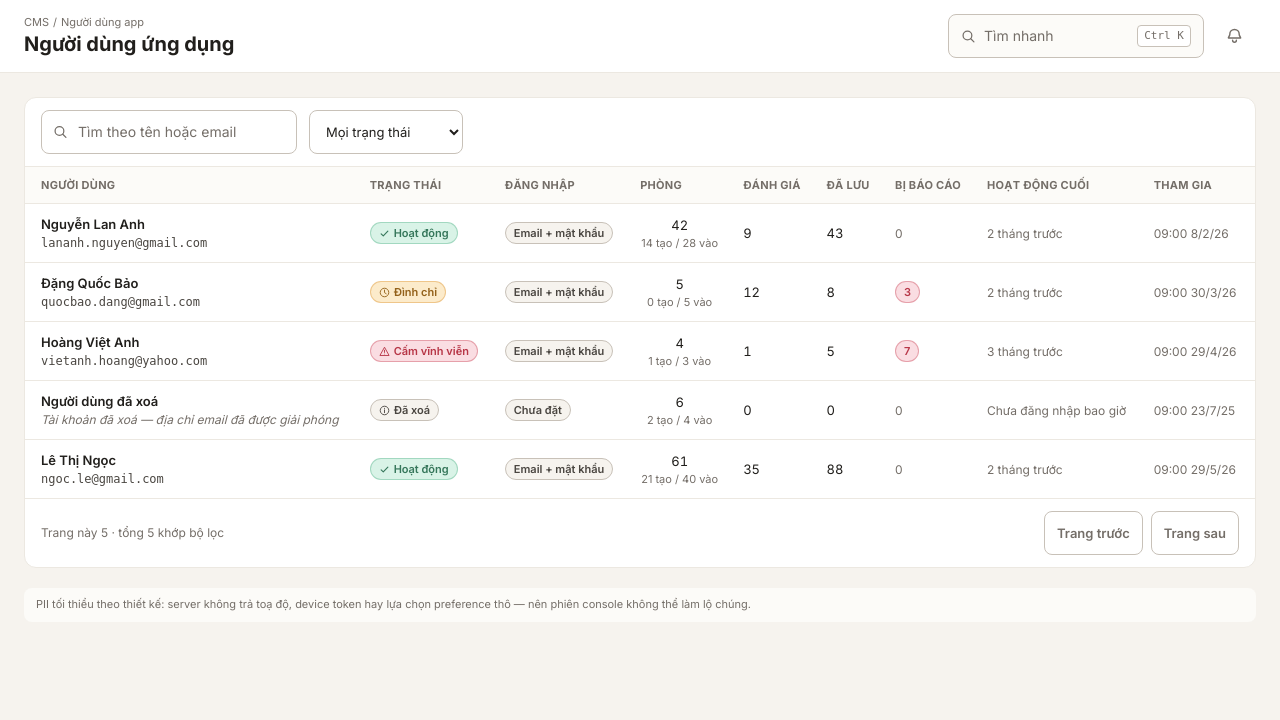
it: secure export — direct user export (GoGo-BE#256) › explains 409 SUBJECT_CANNOT_SIGN_IN — account recovery first
Click the text "Nguyễn Lan Anh".
click(93, 224)  # box [41,216,145,232]
(page scrolled)
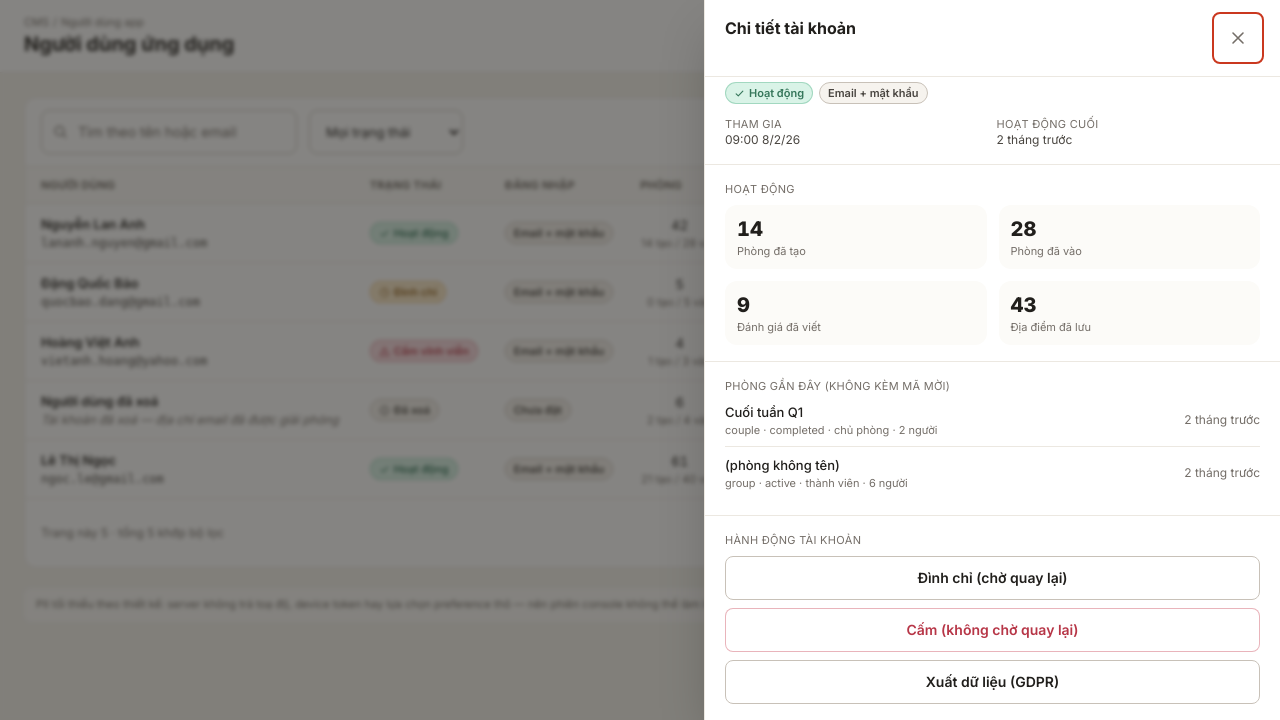
Click the button "Xuất dữ liệu (GDPR)".
click(992, 682)  # box [725,660,1260,704]
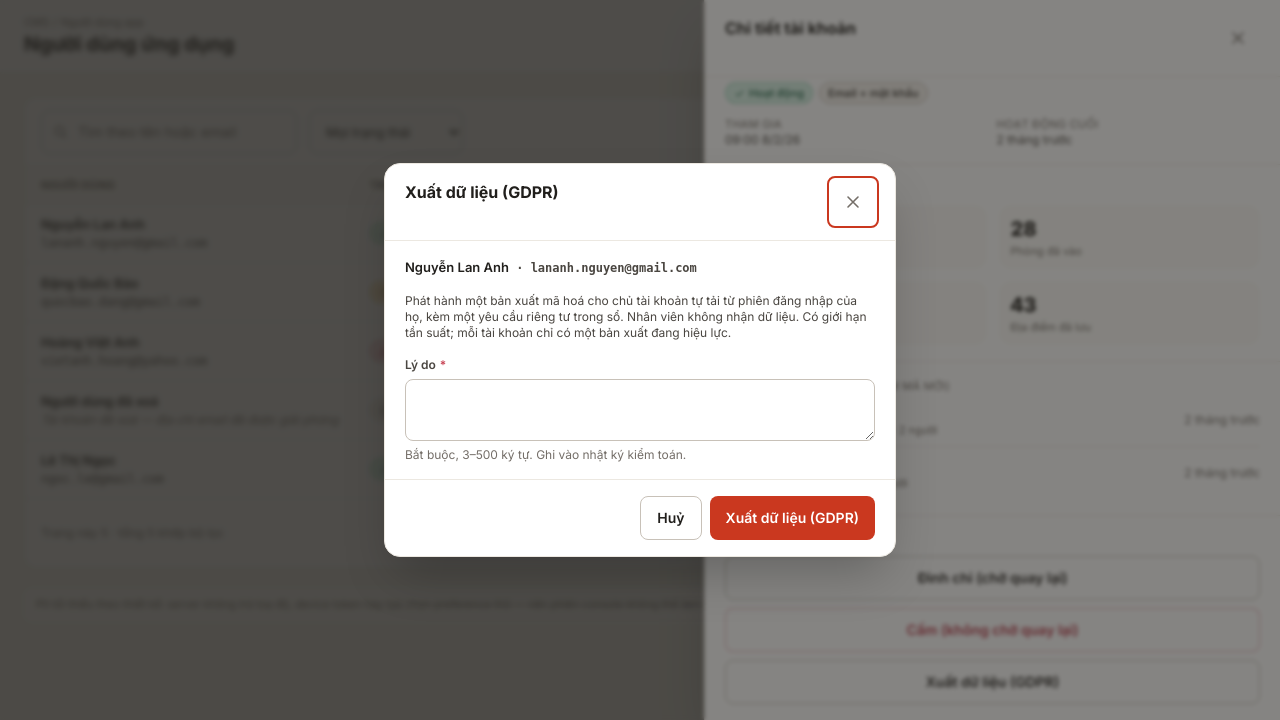
Type "SUP-2001 yêu cầu bản sao" into the text box labelled "Lý do*".
click(640, 410); type("SUP-2001 yêu cầu bản sao")  # box [405,379,875,441]
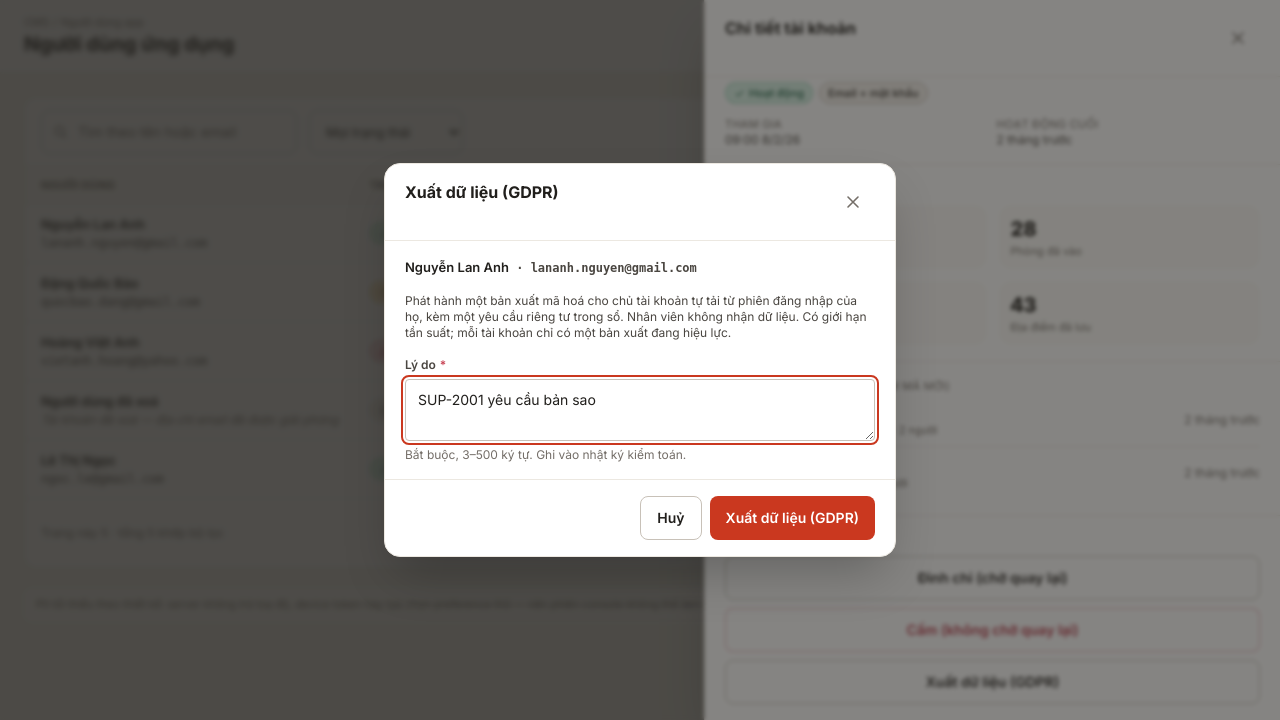
Click the button "Xuất dữ liệu (GDPR)".
click(792, 518)  # box [710,496,875,540]
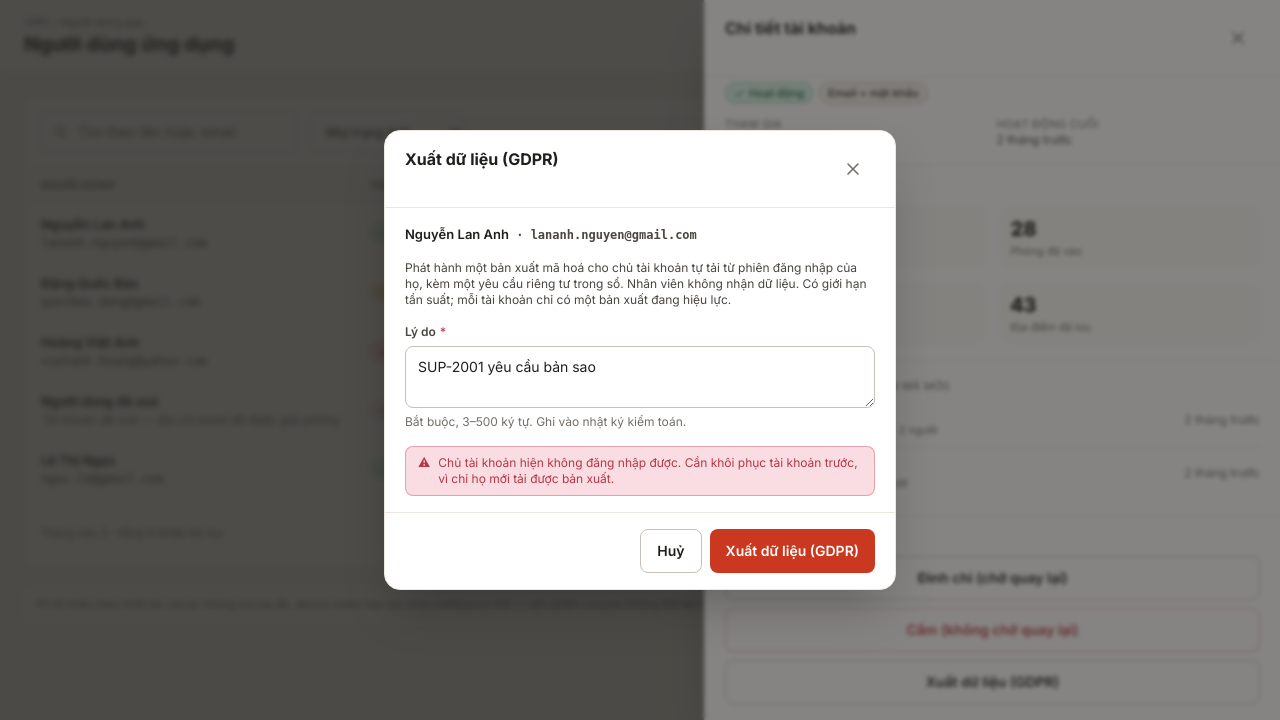
Check: the text "khôi phục tài khoản" is shown, box [438,455,858,486]
